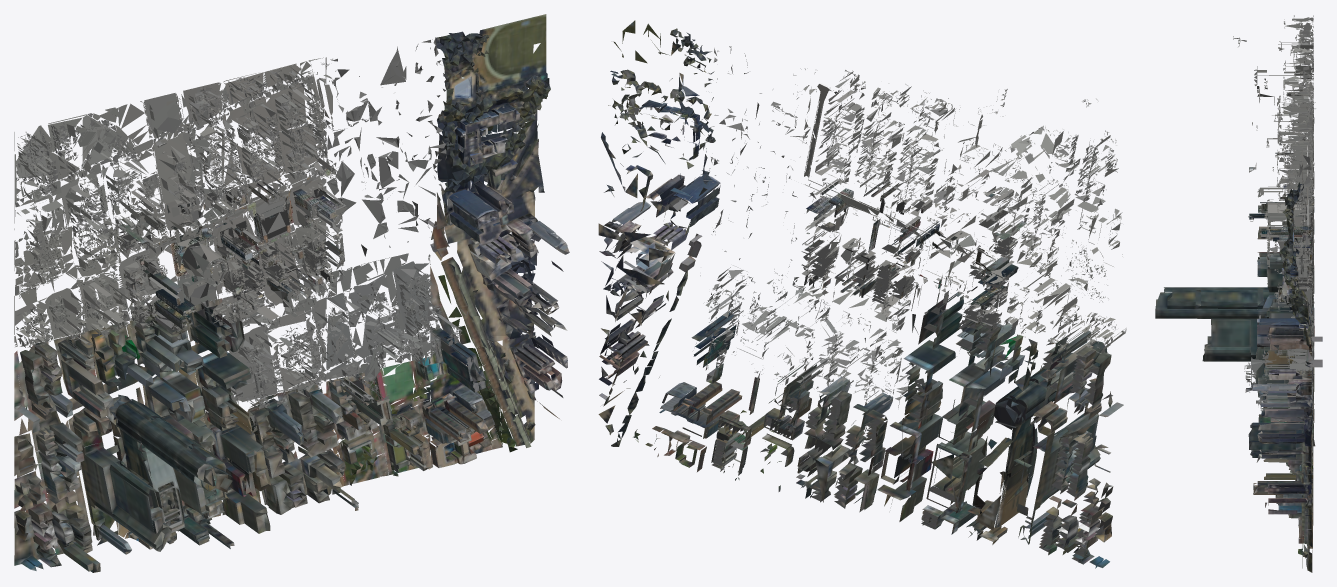
File: mongkok_11-NW-19B.glb
3 renders of one model, left to right at view 1: azimuth 30°, elevation 25°; view 2: azimuth 150°, elevation 25°; view 3: azimuth 270°, elevation 25°, orthographic. The views are drawn at different scales.
Parts seen in each view (by area): view 1: geometry_1, geometry_25, geometry_2, geometry_0, geometry_70, geometry_28, geometry_27, geometry_24, geometry_40, geometry_26, geometry_67, geometry_11 (+67 smaller); view 2: geometry_26, geometry_27, geometry_2, geometry_1, geometry_25, geometry_28, geometry_0, geometry_40, geometry_24, geometry_70, geometry_105, geometry_93 (+21 smaller); view 3: geometry_2, geometry_24, geometry_0, geometry_40, geometry_25, geometry_70, geometry_28, geometry_27, geometry_26, geometry_105, geometry_1, geometry_69 (+21 smaller).
Boxes of the visible parts, left/top/right/bottom form: geometry_1: left=14, top=324, right=215, bottom=490; geometry_25: left=14, top=436, right=171, bottom=572; geometry_2: left=118, top=298, right=251, bottom=492; geometry_0: left=424, top=116, right=569, bottom=259; geometry_70: left=436, top=14, right=550, bottom=149; geometry_28: left=326, top=357, right=467, bottom=510; geometry_27: left=222, top=384, right=345, bottom=533; geometry_24: left=430, top=231, right=567, bottom=382; geometry_40: left=430, top=332, right=567, bottom=467; geometry_26: left=118, top=410, right=255, bottom=549; geometry_67: left=222, top=63, right=333, bottom=195; geometry_11: left=229, top=283, right=362, bottom=426; geometry_26: left=902, top=407, right=1036, bottom=544; geometry_27: left=802, top=376, right=926, bottom=521; geometry_2: left=903, top=292, right=1094, bottom=433; geometry_1: left=1005, top=330, right=1123, bottom=459; geometry_25: left=1007, top=413, right=1113, bottom=568; geometry_28: left=700, top=363, right=822, bottom=491; geometry_0: left=598, top=128, right=720, bottom=257; geometry_40: left=598, top=319, right=732, bottom=471; geometry_24: left=599, top=230, right=736, bottom=357; geometry_70: left=608, top=20, right=715, bottom=142; geometry_105: left=806, top=178, right=920, bottom=296; geometry_93: left=905, top=197, right=1026, bottom=320; geometry_2: left=1155, top=237, right=1313, bottom=359; geometry_24: left=1248, top=359, right=1322, bottom=476; geometry_0: left=1245, top=280, right=1322, bottom=395; geometry_40: left=1250, top=450, right=1312, bottom=572; geometry_25: left=1202, top=285, right=1314, bottom=391; geometry_70: left=1279, top=182, right=1307, bottom=306; geometry_28: left=1253, top=408, right=1313, bottom=525; geometry_27: left=1258, top=364, right=1315, bottom=474; geometry_26: left=1255, top=342, right=1314, bottom=437; geometry_105: left=1268, top=194, right=1313, bottom=302; geometry_1: left=1164, top=196, right=1314, bottom=296; geometry_69: left=1267, top=138, right=1312, bottom=259.
Bounding box in the file's own units: 751 × 600 × 258.
Materials: 19 (18 with a texture image).
